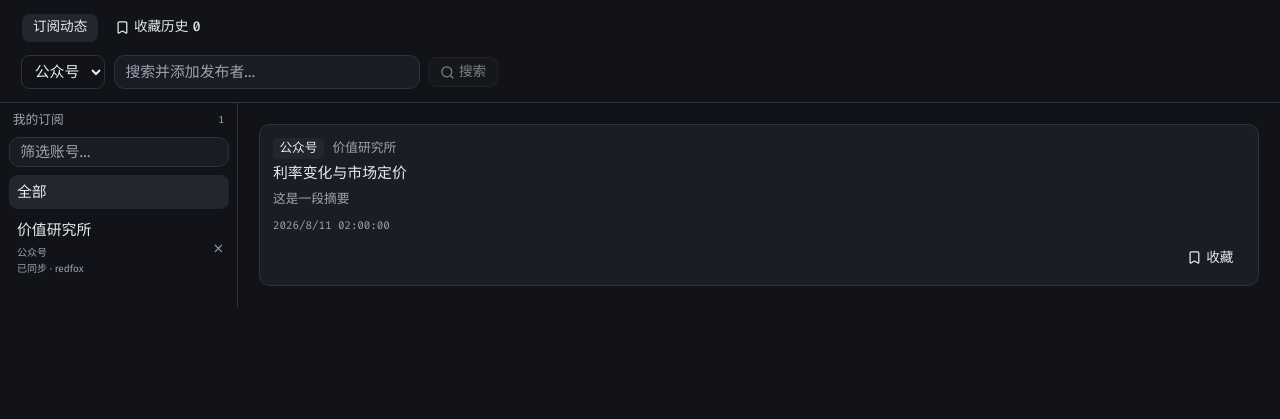
Test: SocialPanel 统一订阅动态 › 手动刷新只提示已加入队列，不等待上游抓取
Click the button "价值研究所 公众号 已同步 · redfox". click: (108, 248)
box: [8,214,207,283]
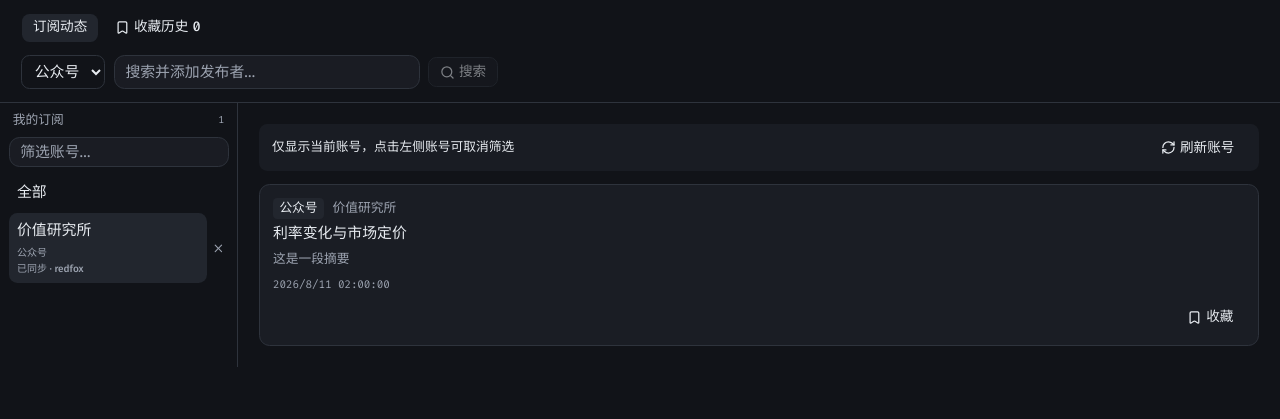
Click the button "刷新账号". click: (1198, 148)
box: [1149,133,1246,163]
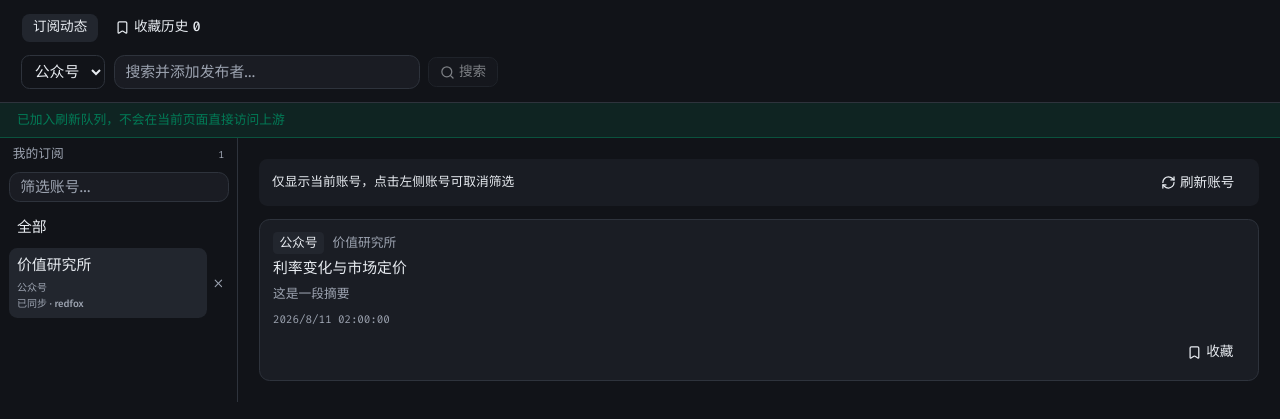
Expected: the text "已加入刷新队列，不会在当前页面直接访问上游" is shown, [0,103,1279,138]
